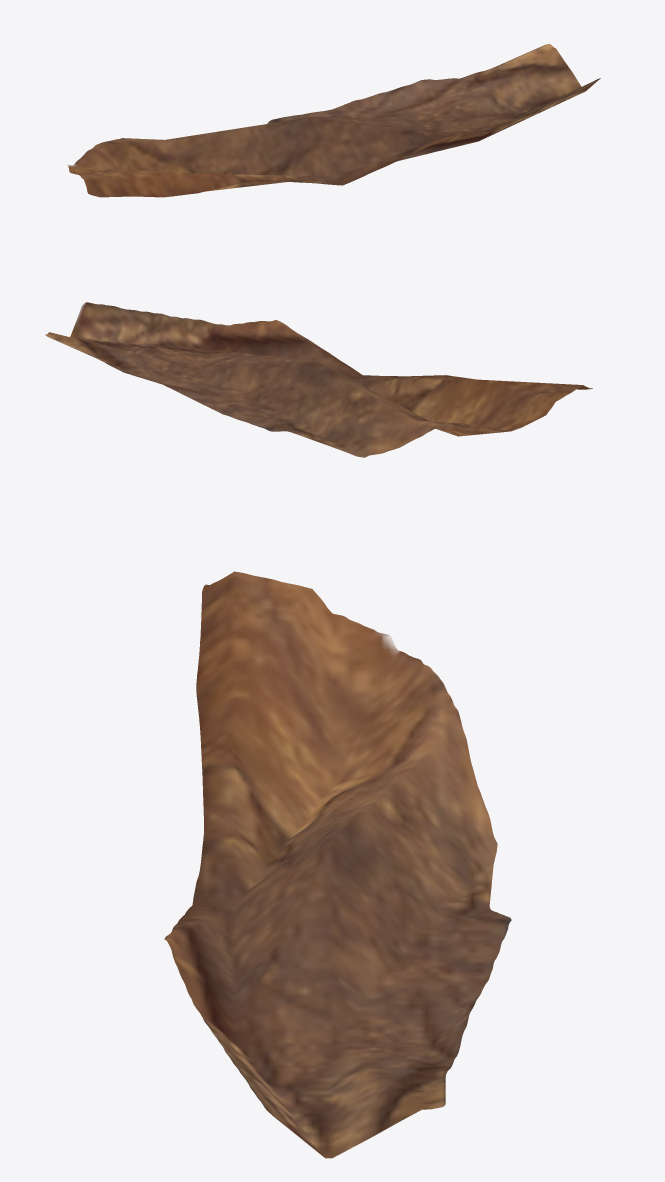
The model's file is grabba.FBX.
3 renders of one model, top to bottom at view 1: azimuth 30°, elevation 25°; view 2: azimuth 150°, elevation 25°; view 3: azimuth 270°, elevation 25°, orthographic. The views are drawn at different scales.
Parts seen in each view (by area): view 1: grabba; view 2: grabba; view 3: grabba.
Part boxes in pixels (x1,y1,x2,y2): grabba: [67, 44, 600, 197]; grabba: [45, 302, 592, 457]; grabba: [164, 571, 511, 1158].
Size of the model in its own units: 11.22 by 1.55 by 3.49.
